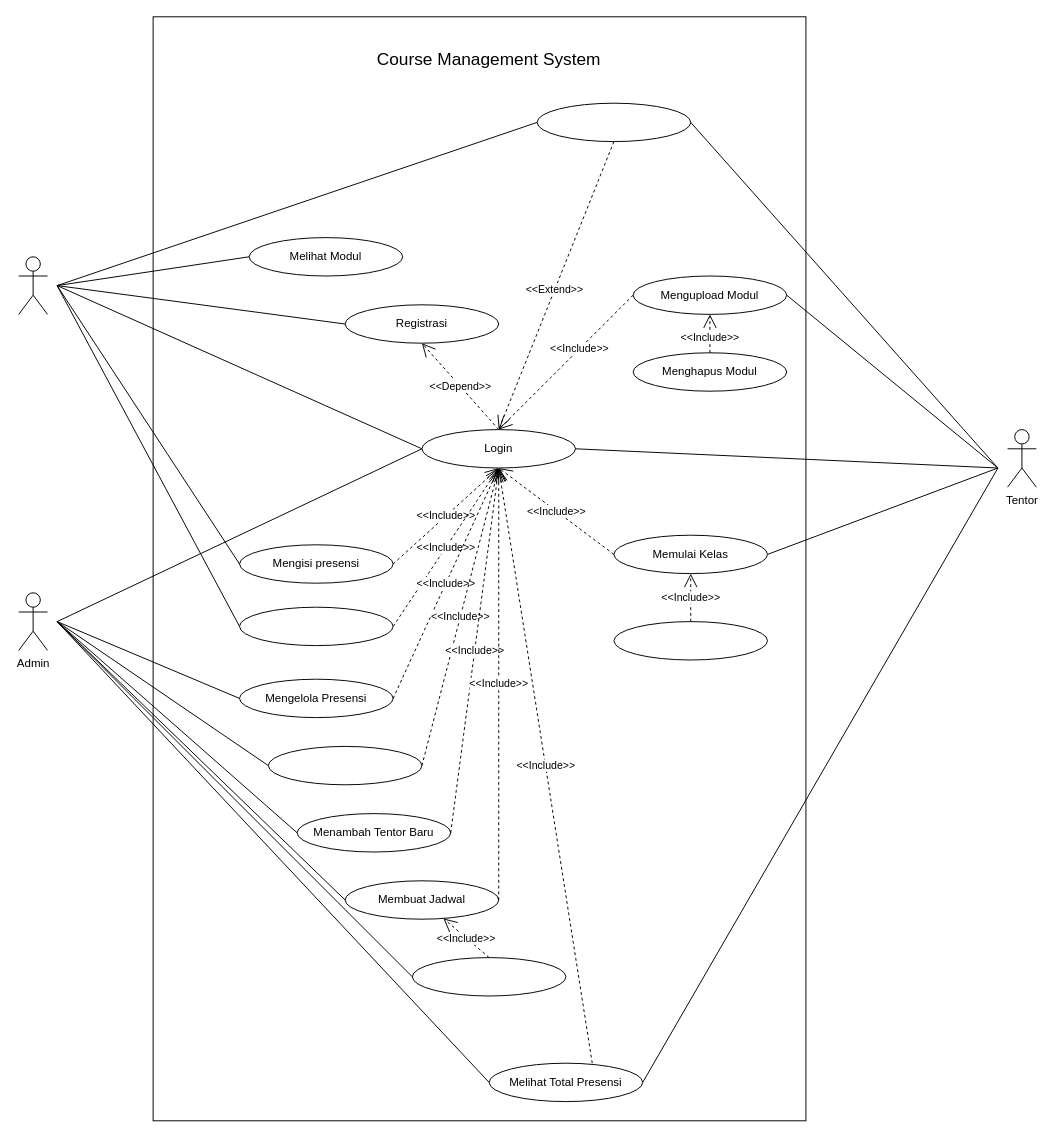
This 1054x1138 diagram has some shape labels left out. The shapes that lost their labels are listed below. From the top down, each one's box as (x1, y1, x2, y2) in pixels, then its label:
(536, 102, 691, 142): Mengubah Password
(18, 256, 48, 314): Siswa
(239, 606, 393, 646): Melihat Status Kehadiran
(613, 621, 768, 660): Mengakhiri Kelas
(267, 745, 422, 785): Menerima Siswa Baru
(411, 957, 566, 996): Mengganti Jadwal
